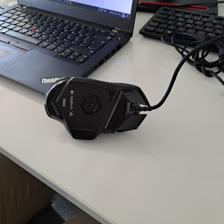mouse: (43, 75, 150, 140)
